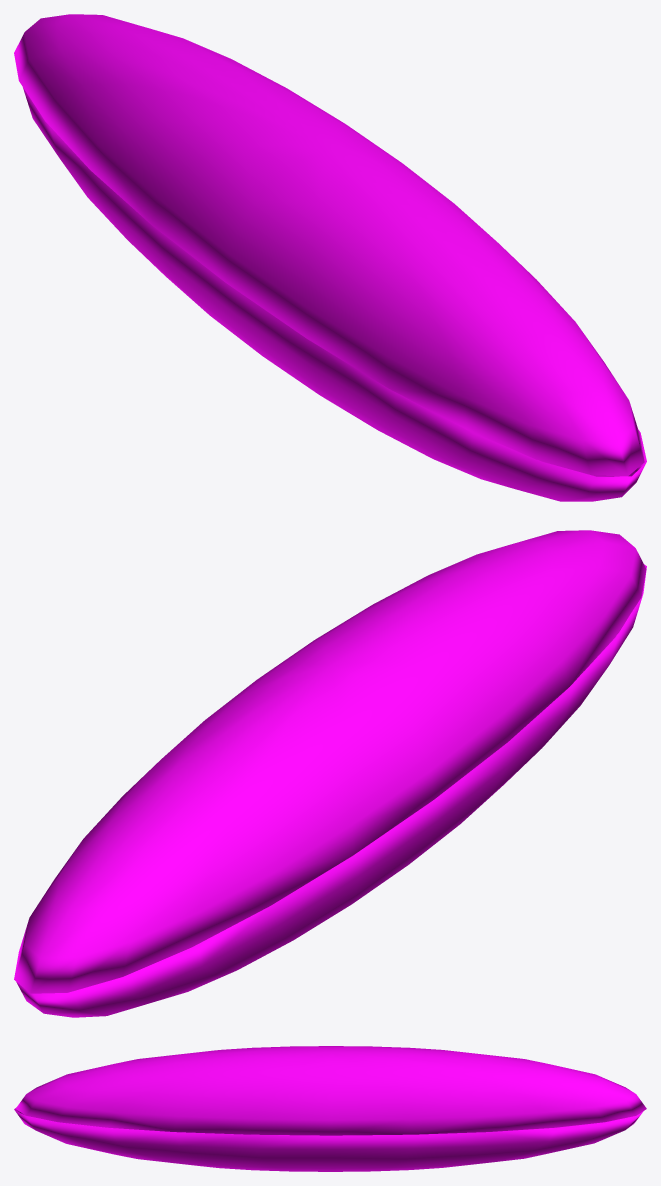
The model's file is Dublesky.obj.
3 views of the same model, one above another, from view 1: azimuth 30°, elevation 25°; view 2: azimuth 150°, elevation 25°; view 3: azimuth 270°, elevation 25° (orthographic). The views are drawn at different scales.
Visible parts, largest first — view 1: default.001, default; view 2: default.001, default; view 3: default.001, default.
Part boxes in pixels (x1,y1,x2,y2): default.001: (14, 14, 644, 476); default: (23, 88, 646, 501); default.001: (14, 530, 646, 993); default: (16, 564, 646, 1017); default.001: (15, 1046, 646, 1135); default: (14, 1107, 643, 1171).
Size of the model in its own units: 394 by 393 by 1971.
